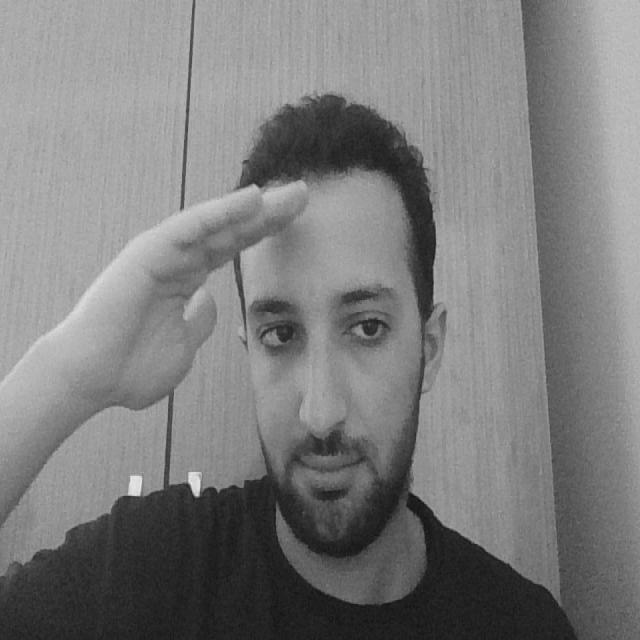Merhaba: (70, 148, 315, 482)
